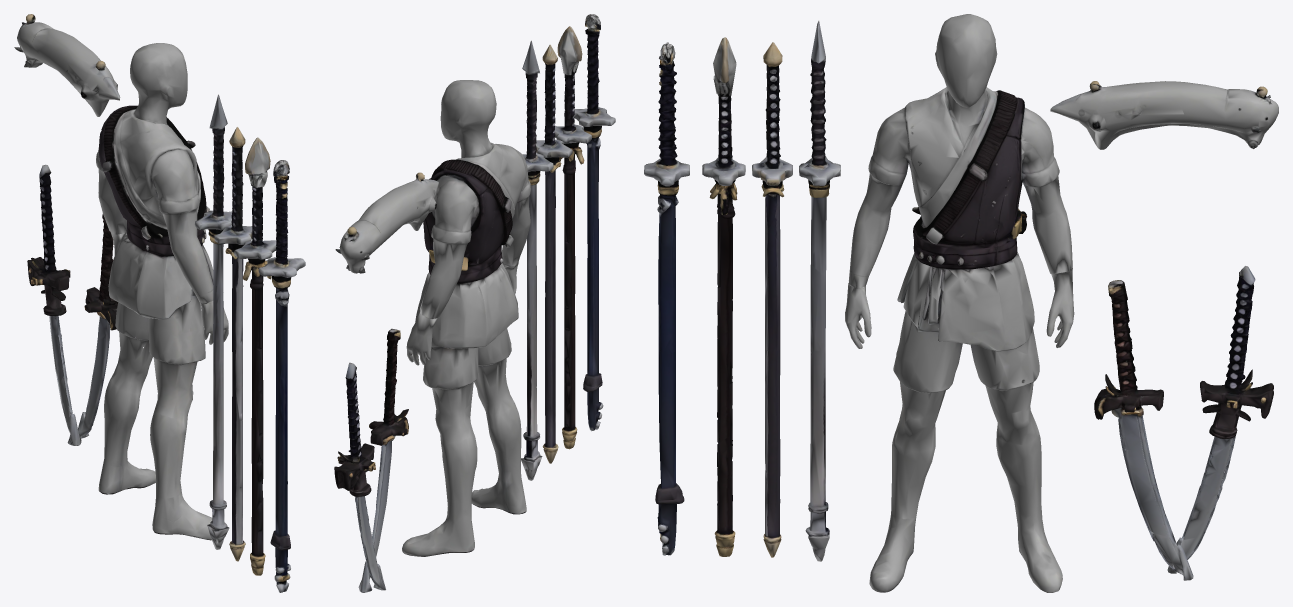
File: tripo_h31_mannequin_martial_weapons_kit.glb
3 renders of one model, left to right at view 1: azimuth 30°, elevation 25°; view 2: azimuth 150°, elevation 25°; view 3: azimuth 270°, elevation 25°, orthographic. The views are drawn at different scales.
Visible parts, largest first — view 1: tripo_node_3219f23e-d4c4-4733-9ca2-ed6bf4af473b; view 2: tripo_node_3219f23e-d4c4-4733-9ca2-ed6bf4af473b; view 3: tripo_node_3219f23e-d4c4-4733-9ca2-ed6bf4af473b.
Boxes of the visible parts, x1,y1,x2,y2 form: tripo_node_3219f23e-d4c4-4733-9ca2-ed6bf4af473b: [14, 14, 305, 592]; tripo_node_3219f23e-d4c4-4733-9ca2-ed6bf4af473b: [334, 14, 615, 592]; tripo_node_3219f23e-d4c4-4733-9ca2-ed6bf4af473b: [644, 14, 1278, 592].
Bounding box in the file's own units: 0.2013 × 0.9462 × 0.9788.
1 material, 1 textured.
